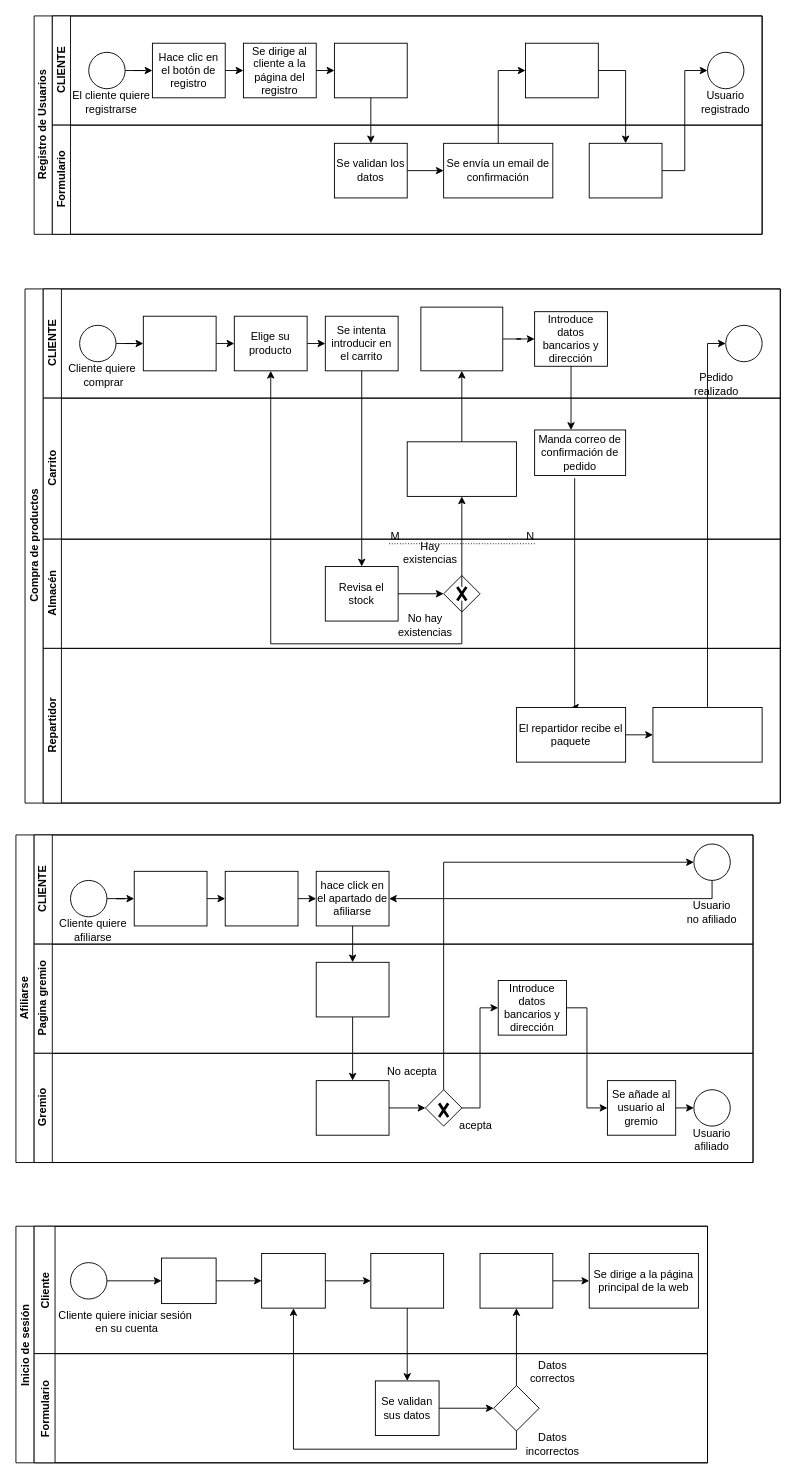
The diagram is 796 pixels wide and 1479 high, and some of its shapes have lost their labels. Each missing label, with the centre of its shape:
Añade el producto al carrito: the point at 461,468
El cliente acepta la confirmación: the point at 561,70
El cliente rellena el formulario: the point at 370,70
El gremio recibe la petición para unirse: the point at 352,1107
El repartidor entrega el paquete: the point at 707,734
Elige el gremio al que afiliarse: the point at 261,898
Hace clic en el botón de gremios: the point at 170,898
Hace clic en el botón de tienda: the point at 179,343
Hace click en iniciar sesión: the point at 188,1280
Notifica al cliente la adición del producto al carrito: the point at 461,338
Rellena el formulario con sus datos: the point at 407,1280
Se dirige al formulario de inicio de sesión: the point at 293,1280
Se envía una petición: the point at 352,989
Se guarda al cliente: the point at 625,170
Usuario logueado: the point at 516,1280
